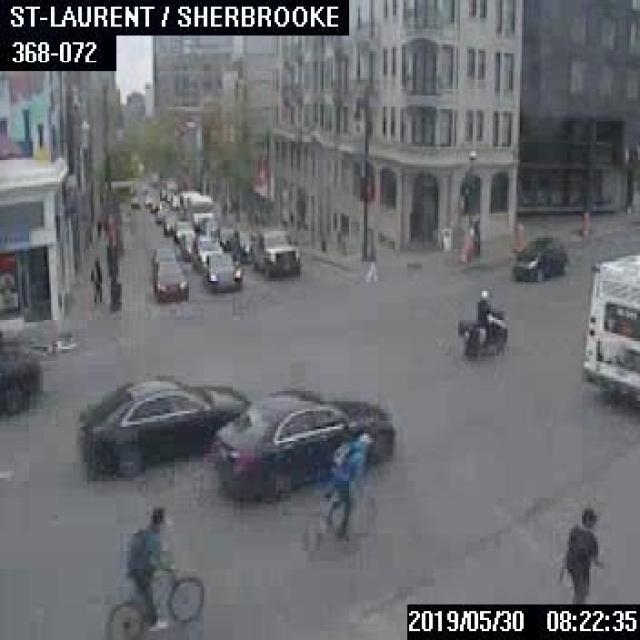bus: (578, 249, 638, 400)
construction: (512, 220, 524, 251), (580, 209, 590, 243)
cyclist: (102, 504, 205, 638), (301, 433, 378, 560)
pedestrian: (554, 507, 611, 602), (89, 256, 102, 300), (94, 216, 102, 238)
vehicle: (212, 389, 394, 496), (77, 374, 248, 477), (455, 289, 507, 358), (0, 344, 42, 409), (511, 236, 567, 282), (251, 229, 298, 274), (148, 259, 187, 299), (202, 252, 240, 290), (188, 234, 223, 267), (229, 228, 262, 260), (185, 192, 212, 228), (178, 190, 198, 217), (151, 246, 175, 266), (180, 228, 195, 257), (174, 218, 193, 240), (198, 214, 218, 234), (162, 211, 180, 232), (217, 227, 234, 247)
